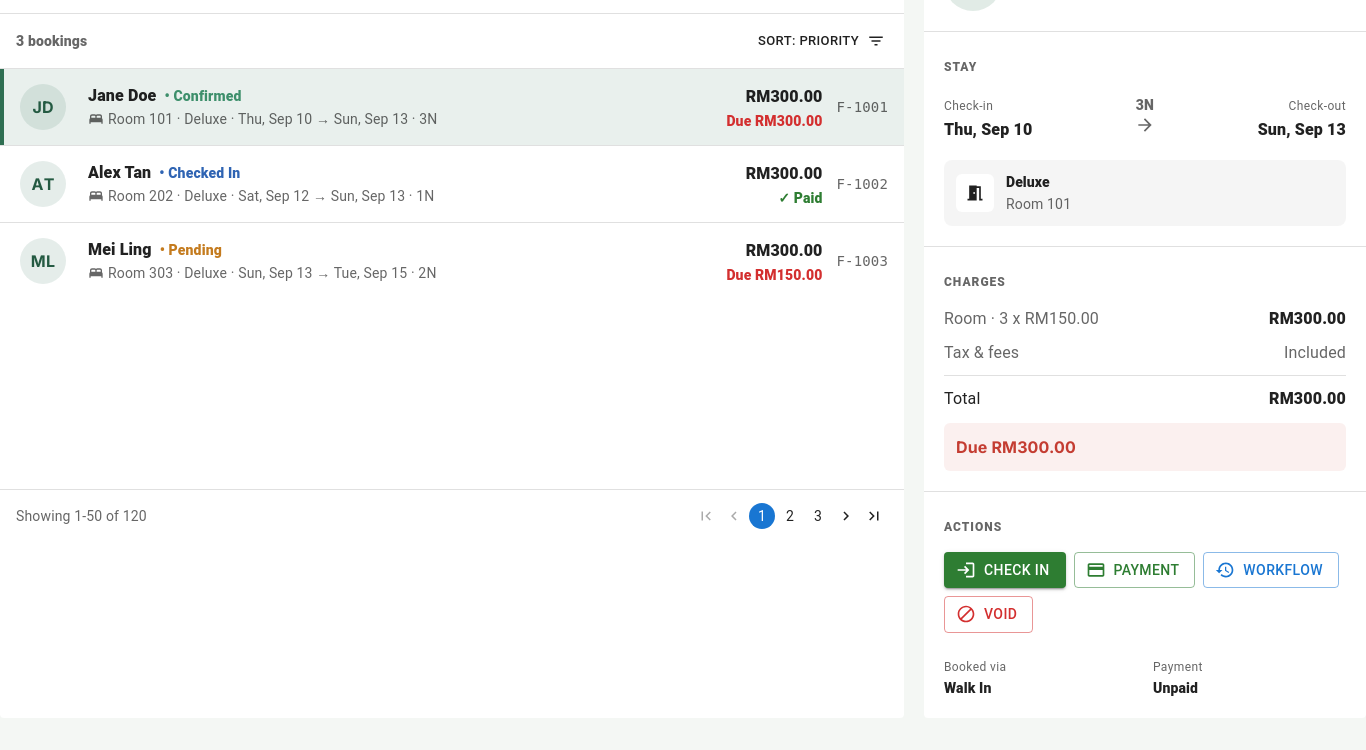
Test: BookingsPage › modals › the Accept Payment dialog warns that the payment is dated today
This screenshot has width=1366, height=750.
(page scrolled)
Click the button "Payment".
click(1134, 570)  # box [1074, 552, 1195, 588]
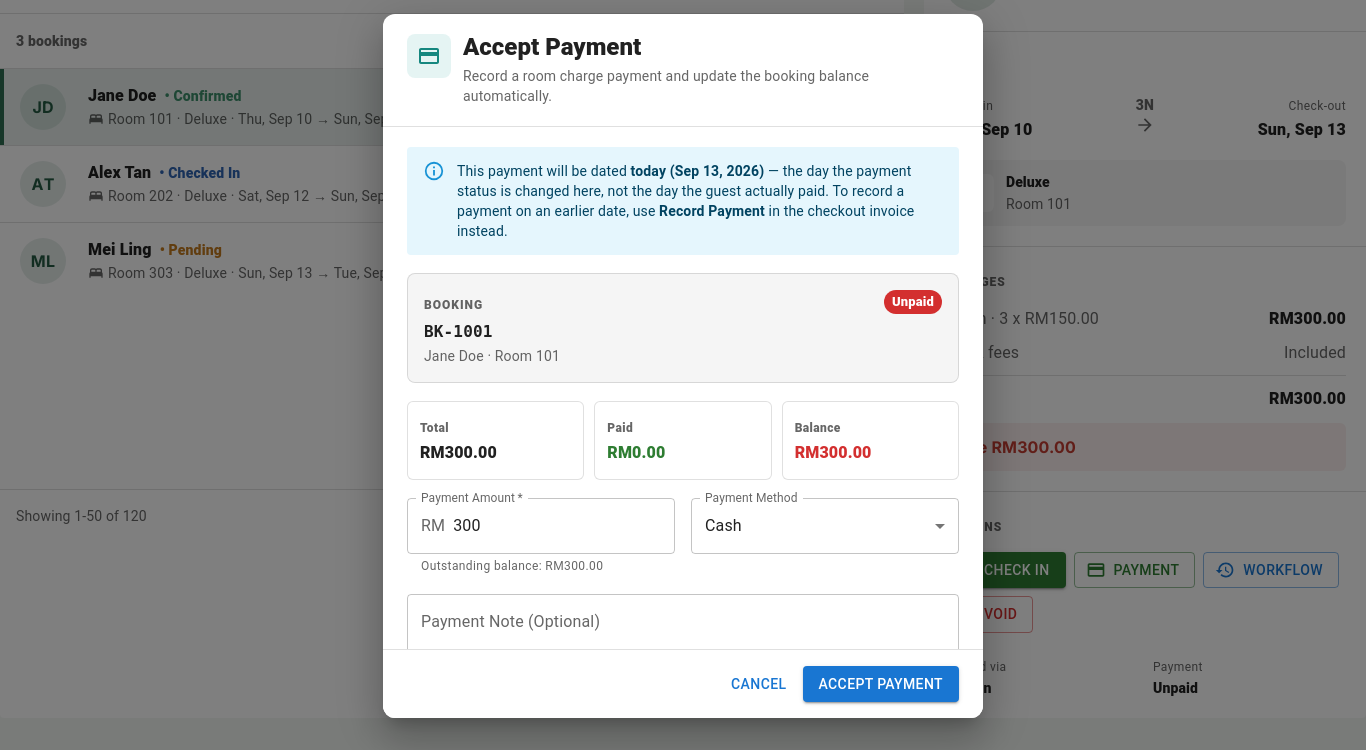
Expected: the message is shown, [407, 147, 959, 255]
Expected: the message shows "not the day the guest actually paid", [457, 163, 911, 219]
Expected: the message shows "Record Payment", [659, 203, 765, 219]
